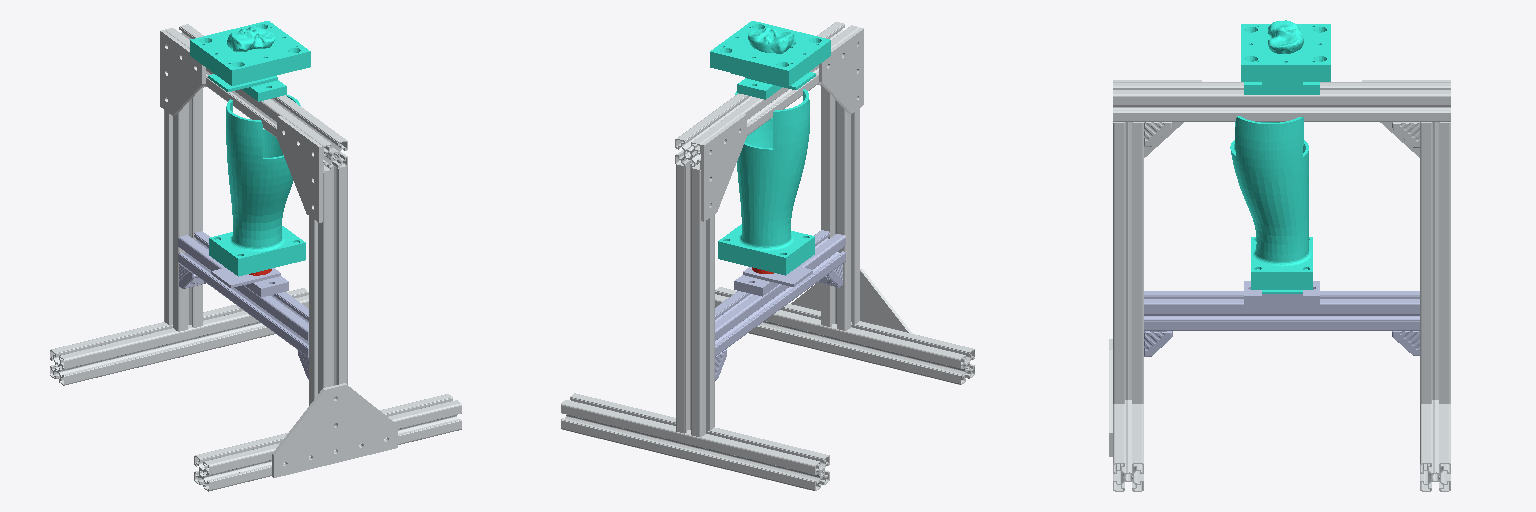
The robot description file, URDF, robot "brace_bottom_setup":
<?xml version="1.0" encoding="utf-8"?>
<!-- This URDF was automatically created by SolidWorks to URDF Exporter! Originally created by [author] ([email redacted]) 
     Commit Version: 1.6.0-4-g7f85cfe  Build Version: 1.6.7995.38578
     For more information, please see http://wiki.ros.org/sw_urdf_exporter -->
<robot
  name="brace_bottom_setup">
  <link
    name="base_link">
    <inertial>
      <origin
        xyz="-0.005418827853237 0.171260099118469 0.221881978635394"
        rpy="0 0 0" />
      <mass
        value="2.24707410283585" />
      <inertia
        ixx="0.0160655902230882"
        ixy="-4.63212487030601E-11"
        ixz="-2.15573730568622E-12"
        iyy="0.0195952585268448"
        iyz="1.8915543294356E-13"
        izz="0.0161867550058172" />
    </inertial>
    <visual>
      <origin
        xyz="0 0 0"
        rpy="0 0 0" />
      <geometry>
        <mesh
          filename="package://brace_bottom_setup/meshes/base_link.STL" />
      </geometry>
      <material
        name="">
        <color
          rgba="0.898039215686275 0.917647058823529 0.929411764705882 1" />
      </material>
    </visual>
    <collision>
      <origin
        xyz="0 0 0"
        rpy="0 0 0" />
      <geometry>
        <mesh
          filename="package://brace_bottom_setup/meshes/base_link.STL" />
      </geometry>
    </collision>
  </link>
  <link
    name="Link1">
    <inertial>
      <origin
        xyz="-0.0194932694179573 0.199999991124329 -0.0275963633540512"
        rpy="0 0 0" />
      <mass
        value="0.493518956002241" />
      <inertia
        ixx="0.00321839489193876"
        ixy="-4.46079706853295E-11"
        ixz="3.99828691691285E-06"
        iyy="0.000178296976750631"
        iyz="-1.97678403625433E-15"
        izz="0.00326554777538374" />
    </inertial>
    <visual>
      <origin
        xyz="0 0 0"
        rpy="0 0 0" />
      <geometry>
        <mesh
          filename="package://brace_bottom_setup/meshes/Link1.STL" />
      </geometry>
      <material
        name="">
        <color
          rgba="0.792156862745098 0.819607843137255 0.933333333333333 1" />
      </material>
    </visual>
    <collision>
      <origin
        xyz="0 0 0"
        rpy="0 0 0" />
      <geometry>
        <mesh
          filename="package://brace_bottom_setup/meshes/Link1.STL" />
      </geometry>
    </collision>
  </link>
  <joint
    name="Joint1"
    type="fixed">
    <origin
      xyz="0.0195000022412237 0.00960000406644995 0.161251997758775"
      rpy="0 0 0" />
    <parent
      link="base_link" />
    <child
      link="Link1" />
    <axis
      xyz="0 0 0" />
  </joint>
  <link
    name="Link3">
    <inertial>
      <origin
        xyz="4.16922011680088E-05 -2.46796238473346E-06 0.00800716410301203"
        rpy="0 0 0" />
      <mass
        value="0.0185862462856871" />
      <inertia
        ixx="2.97776929321796E-06"
        ixy="3.36295578567038E-09"
        ixz="-3.2397582078835E-09"
        iyy="2.97475924920529E-06"
        iyz="-2.07975997581697E-09"
        izz="5.12744677166641E-06" />
    </inertial>
    <visual>
      <origin
        xyz="0 0 0"
        rpy="0 0 0" />
      <geometry>
        <mesh
          filename="package://brace_bottom_setup/meshes/Link3.STL" />
      </geometry>
      <material
        name="">
        <color
          rgba="1 0.243137254901961 0.176470588235294 1" />
      </material>
    </visual>
    <collision>
      <origin
        xyz="0 0 0"
        rpy="0 0 0" />
      <geometry>
        <mesh
          filename="package://brace_bottom_setup/meshes/Link3.STL" />
      </geometry>
    </collision>
  </link>
  <joint
    name="Joint3"
    type="fixed">
    <origin
      xyz="-0.0170196602318987 0.19999928955966 0.02"
      rpy="0 0 0" />
    <parent
      link="Link1" />
    <child
      link="Link3" />
    <axis
      xyz="0 0 0" />
  </joint>
  <link
    name="Link4">
    <inertial>
      <origin
        xyz="0.016691277795739 -0.0054072841193365 0.0786655852444113"
        rpy="0 0 0" />
      <mass
        value="0.633705360714929" />
      <inertia
        ixx="0.00333988824666686"
        ixy="8.37026352265093E-07"
        ixz="-4.20596979621564E-06"
        iyy="0.00359118520174206"
        iyz="0.00027139645743283"
        izz="0.00135323472792339" />
    </inertial>
    <visual>
      <origin
        xyz="0 0 0"
        rpy="0 0 0" />
      <geometry>
        <mesh
          filename="package://brace_bottom_setup/meshes/Link4.STL" />
      </geometry>
      <material
        name="">
        <color
          rgba="0.294117647058824 1 0.92156862745098 1" />
      </material>
    </visual>
    <collision>
      <origin
        xyz="0 0 0"
        rpy="0 0 0" />
      <geometry>
        <mesh
          filename="package://brace_bottom_setup/meshes/Link4.STL" />
      </geometry>
    </collision>
  </link>
  <joint
    name="Joint4"
    type="fixed">
    <origin
      xyz="-0.0158146026210939 0 0.0197480000000001"
      rpy="0 0 0" />
    <parent
      link="Link3" />
    <child
      link="Link4" />
    <axis
      xyz="0 0 0" />
  </joint>
  <link
    name="Link2">
    <inertial>
      <origin
        xyz="-0.00510093949422075 -9.38138455808257E-15 0.0100957649706122"
        rpy="0 0 0" />
      <mass
        value="0.105862851463318" />
      <inertia
        ixx="9.05697386791009E-05"
        ixy="-1.52226524494505E-20"
        ixz="3.99828691586961E-06"
        iyy="4.66049793647601E-05"
        iyz="7.73257437140311E-22"
        izz="0.000130185260981004" />
    </inertial>
    <visual>
      <origin
        xyz="0 0 0"
        rpy="0 0 0" />
      <geometry>
        <mesh
          filename="package://brace_bottom_setup/meshes/Link2.STL" />
      </geometry>
      <material
        name="">
        <color
          rgba="0.294117647058824 1 0.92156862745098 1" />
      </material>
    </visual>
    <collision>
      <origin
        xyz="0 0 0"
        rpy="0 0 0" />
      <geometry>
        <mesh
          filename="package://brace_bottom_setup/meshes/Link2.STL" />
      </geometry>
    </collision>
  </link>
  <joint
    name="Joint2"
    type="fixed">
    <origin
      xyz="-0.00249999999999495 0.209599976316459 0.495000027749999"
      rpy="0 0 0" />
    <parent
      link="base_link" />
    <child
      link="Link2" />
    <axis
      xyz="0 0 0" />
  </joint>
  <link
    name="Link5">
    <inertial>
      <origin
        xyz="2.11785423024358E-05 -3.64843219796684E-06 0.0130071640213944"
        rpy="0 0 0" />
      <mass
        value="0.0185862466941426" />
      <inertia
        ixx="2.97776932985554E-06"
        ixy="3.36293092475292E-09"
        ixz="-3.23976928932075E-09"
        iyy="2.97475927565071E-06"
        iyz="-2.07977359268194E-09"
        izz="5.12744682262177E-06" />
    </inertial>
    <visual>
      <origin
        xyz="0 0 0"
        rpy="0 0 0" />
      <geometry>
        <mesh
          filename="package://brace_bottom_setup/meshes/Link5.STL" />
      </geometry>
      <material
        name="">
        <color
          rgba="1 0.243137254901961 0.176470588235294 1" />
      </material>
    </visual>
    <collision>
      <origin
        xyz="0 0 0"
        rpy="0 0 0" />
      <geometry>
        <mesh
          filename="package://brace_bottom_setup/meshes/Link5.STL" />
      </geometry>
    </collision>
  </link>
  <joint
    name="Joint5"
    type="fixed">
    <origin
      xyz="0 0 0.015"
      rpy="0 0 0" />
    <parent
      link="Link2" />
    <child
      link="Link5" />
    <axis
      xyz="0 0 0" />
  </joint>
  <link
    name="Link6">
    <inertial>
      <origin
        xyz="0.00246037527092147 0.00749910840538742 0.0067961130818659"
        rpy="0 0 0" />
      <mass
        value="0.291923645802481" />
      <inertia
        ixx="0.000408669309102484"
        ixy="-1.54981045724335E-06"
        ixz="9.57447191934514E-07"
        iyy="0.000456110921032335"
        iyz="2.84247365943162E-06"
        izz="0.000851023694213627" />
    </inertial>
    <visual>
      <origin
        xyz="0 0 0"
        rpy="0 0 0" />
      <geometry>
        <mesh
          filename="package://brace_bottom_setup/meshes/Link6.STL" />
      </geometry>
      <material
        name="">
        <color
          rgba="0.294117647058824 1 0.92156862745098 1" />
      </material>
    </visual>
    <collision>
      <origin
        xyz="0 0 0"
        rpy="0 0 0" />
      <geometry>
        <mesh
          filename="package://brace_bottom_setup/meshes/Link6.STL" />
      </geometry>
    </collision>
  </link>
  <joint
    name="Joint6"
    type="fixed">
    <origin
      xyz="-0.00712040356960131 -0.00135982032125276 0.0247480000000005"
      rpy="0 0 0" />
    <parent
      link="Link5" />
    <child
      link="Link6" />
    <axis
      xyz="0 0 0" />
  </joint>
</robot>

--- Render facts (derived) ---
The picture shows the robot from 3 angles, left to right: view 1: azimuth 30°, elevation 25°; view 2: azimuth 150°, elevation 25°; view 3: azimuth 270°, elevation 25°; orthographic projection.
Robot: brace_bottom_setup — 7 links, 6 joints (6 fixed); root link base_link; default pose: every joint at zero.
Visible links, largest first — view 1: base_link, Link4, Link1, Link6, Link2; view 2: base_link, Link4, Link1, Link6, Link2; view 3: base_link, Link1, Link4, Link6, Link2.
Link boxes in pixels (x1,y1,x2,y2): base_link: (50,24,461,491); Link4: (209,95,305,276); Link1: (178,231,308,379); Link6: (190,21,310,85); Link2: (208,74,286,101); base_link: (561,22,974,490); Link4: (718,89,814,275); Link1: (715,230,845,380); Link6: (710,21,830,86); Link2: (737,72,815,99); base_link: (1109,80,1450,491); Link1: (1144,281,1419,356); Link4: (1230,116,1312,293); Link6: (1241,20,1330,81); Link2: (1244,82,1319,94).
Bounding box of the posed robot: 0.45 × 0.4965 × 0.634 m (x, y, z).
7 mesh visuals loaded from 7 distinct referenced files (7 binary STL).